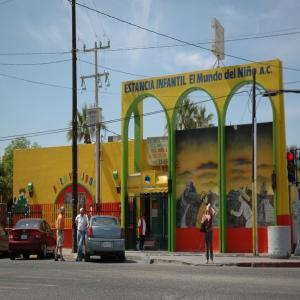Vehicle-registration-plate: (21, 234, 28, 241), (105, 242, 112, 248)
